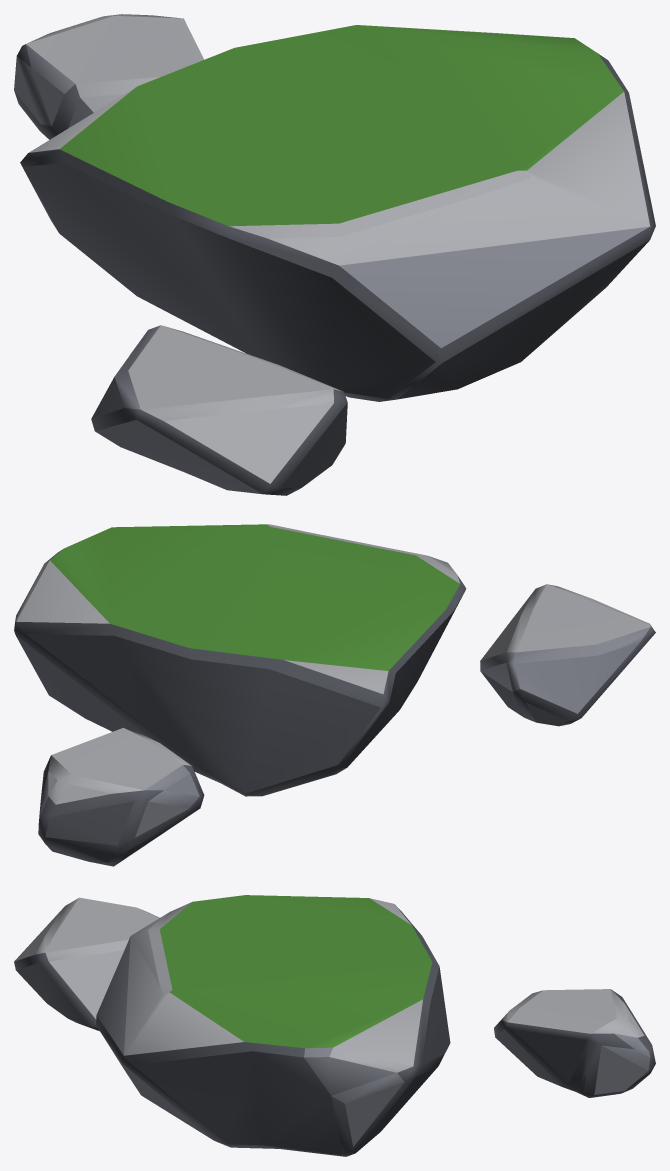
The model's file is Rock_04.glb.
3 views of the same model, one above another, from view 1: azimuth 30°, elevation 25°; view 2: azimuth 150°, elevation 25°; view 3: azimuth 270°, elevation 25° (orthographic). The views are drawn at different scales.
Visible parts, largest first — view 1: Rock_04; view 2: Rock_04; view 3: Rock_04.
Part boxes in pixels (box(x1,y1,x2,y2)): Rock_04: box(14, 14, 655, 495); Rock_04: box(14, 524, 655, 866); Rock_04: box(14, 895, 655, 1156).
Size of the model in its own units: 3.4 by 0.8986 by 4.38.
